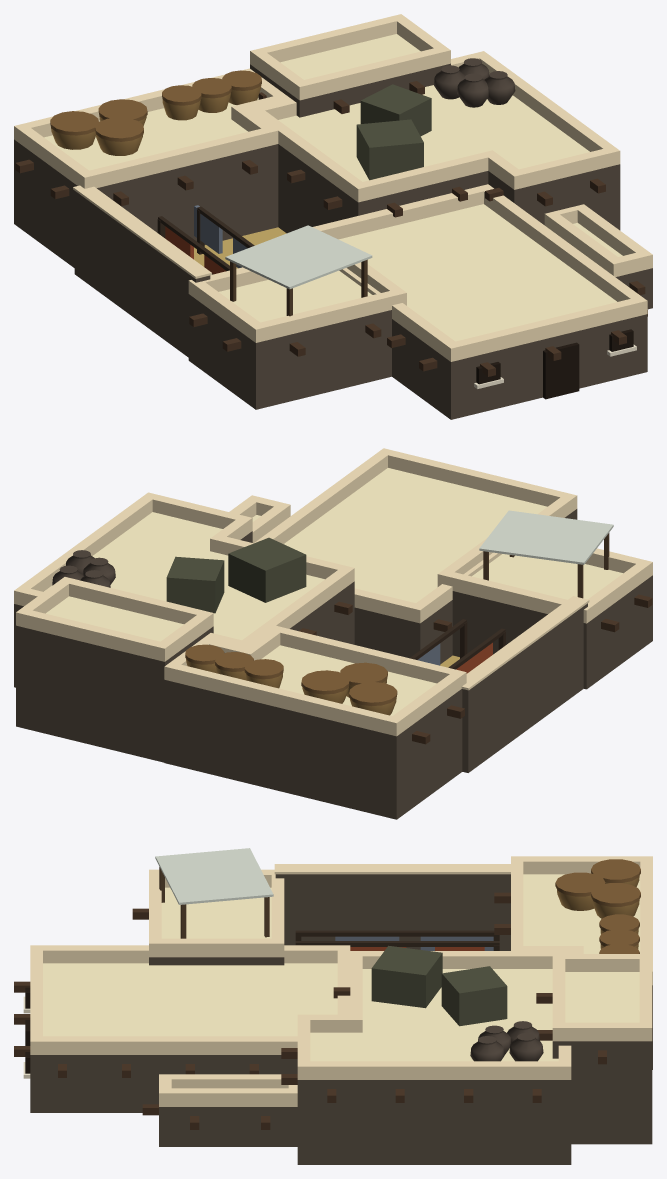
File: VerBuild08.glb
The picture shows the model from 3 angles, top to bottom: view 1: azimuth 30°, elevation 25°; view 2: azimuth 150°, elevation 25°; view 3: azimuth 270°, elevation 25°; orthographic projection.
Parts seen in each view (by area): view 1: VerBuild08_floor; view 2: VerBuild08_floor; view 3: VerBuild08_floor.
Part boxes in pixels (box(x1,y1,x2,y2)): VerBuild08_floor: box(14, 14, 652, 419); VerBuild08_floor: box(14, 448, 652, 819); VerBuild08_floor: box(14, 848, 652, 1164).
Size of the model in its own units: 9.64 by 2.33 by 11.4.
